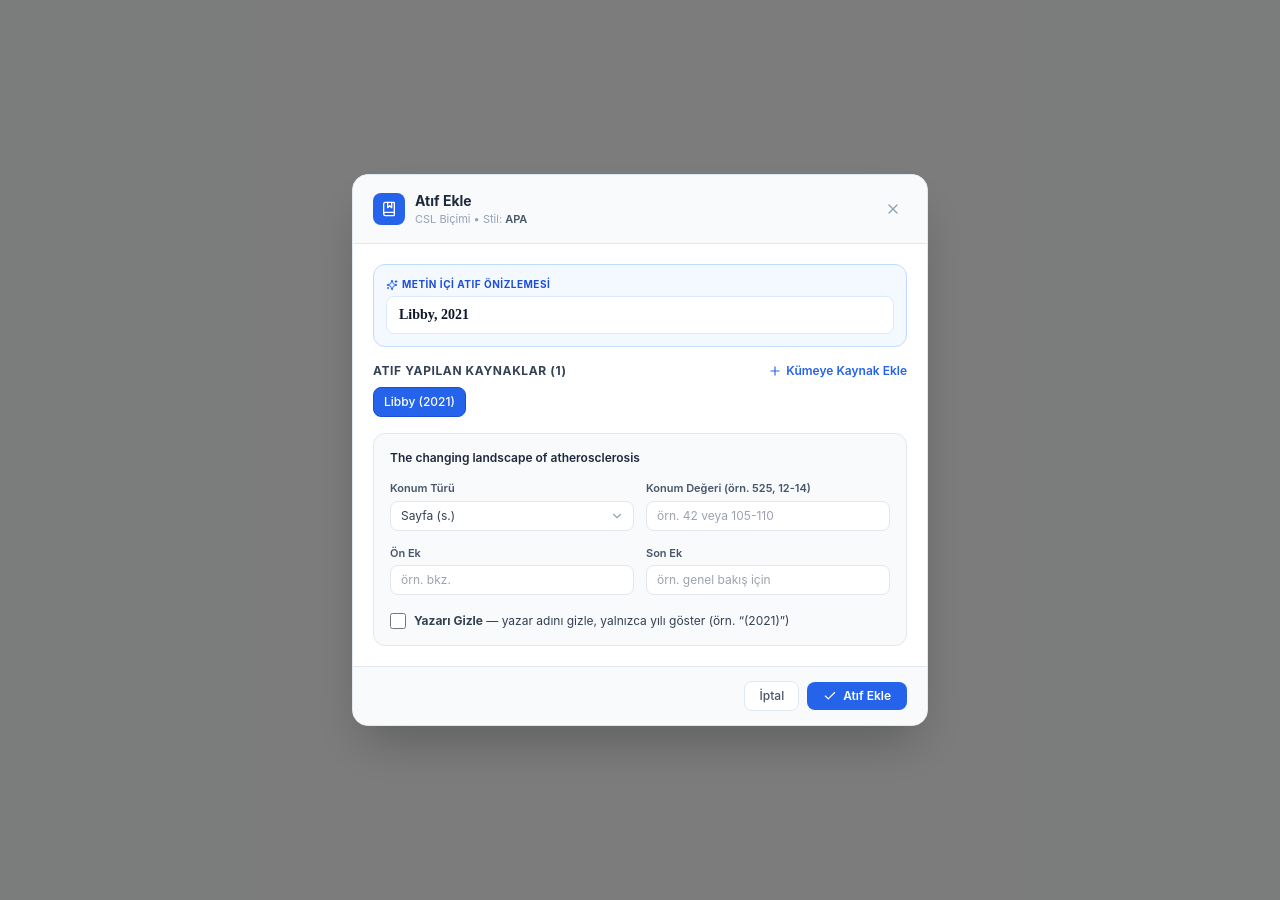
Test case: CitationEditorModal Component › supports multi-item cluster by adding another source
Check: the element with test id "citation-cluster-item-0" is shown, box left=373, top=387, right=466, bottom=417
// Open add source
Click the button with test id "add-source-to-citation-btn".
click(838, 371)  # box left=768, top=363, right=907, bottom=379
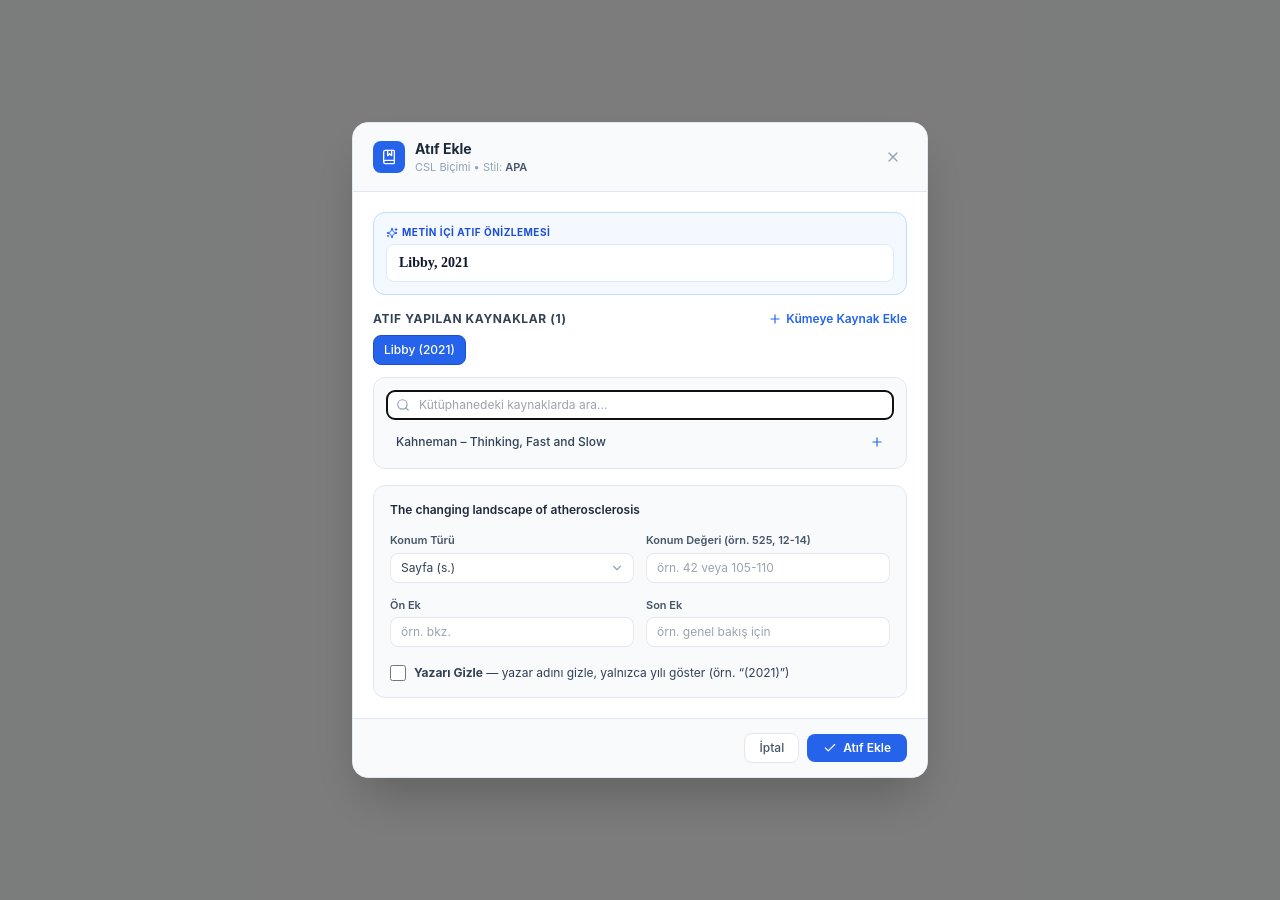
// Click on Kahneman in picker
Click the button "Kahneman – Thinking, Fast and Slow".
click(427, 442)  # box left=386, top=428, right=894, bottom=456
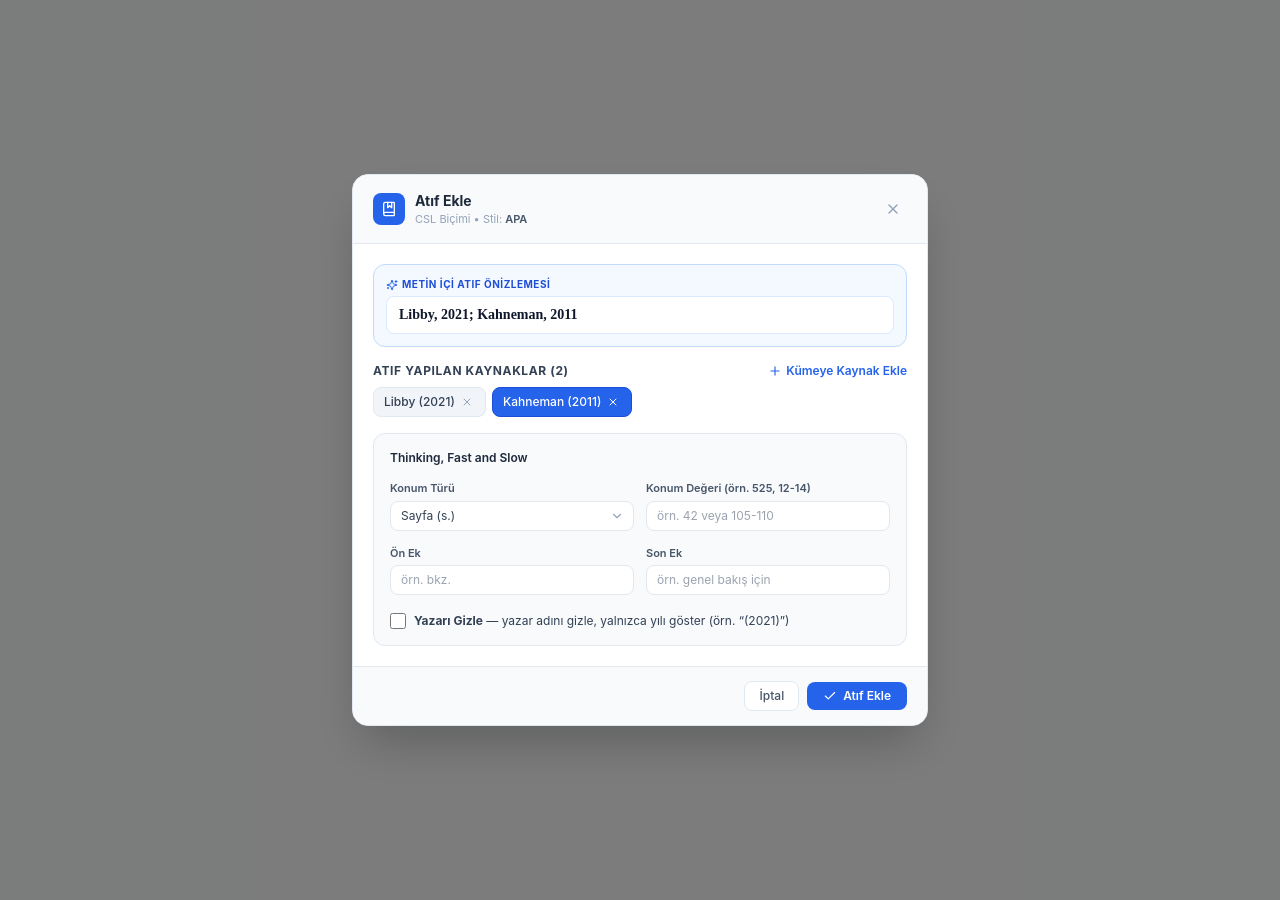
Check: the element with test id "citation-cluster-item-0" is shown, box left=373, top=387, right=486, bottom=417
Check: the element with test id "citation-cluster-item-1" is shown, box left=492, top=387, right=632, bottom=417
Check: the element with test id "citation-live-preview" shows "Kahneman", box left=399, top=307, right=578, bottom=322
